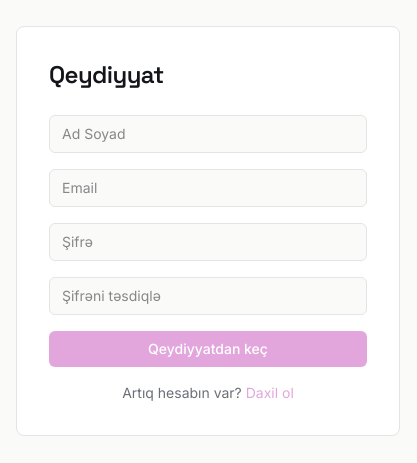
Register › shows an error when passwords do not match
In the field with placeholder "Ad Soyad": (208,134) [49,115,367,153], type "Test User"
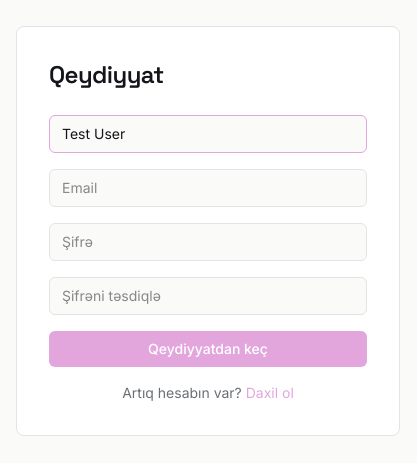
In the field with placeholder "Email": (208,188) [49,169,367,207], type "test@example.com"
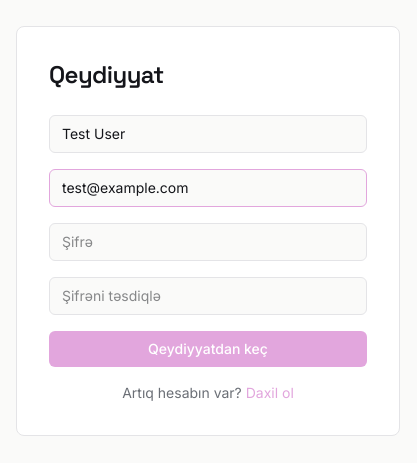
In the password field with placeholder "Şifrə": (208,242) [49,223,367,261], type "password123"
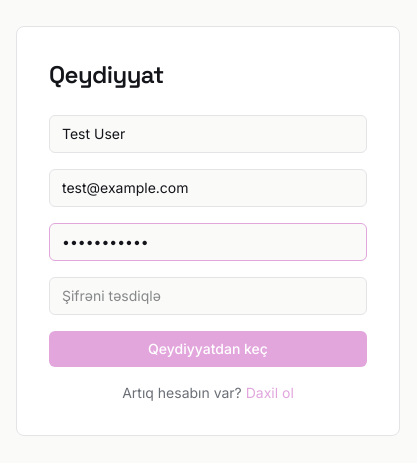
In the password field with placeholder "Şifrəni təsdiqlə": (208,296) [49,277,367,315], type "different123"
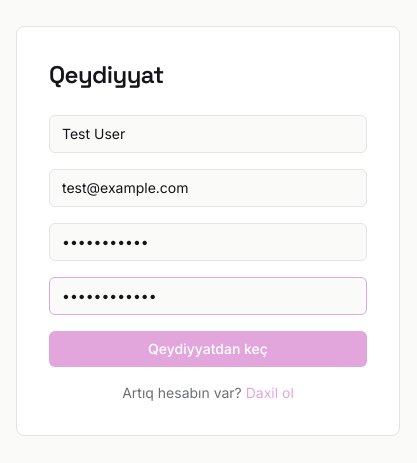
Click the button "Qeydiyyatdan keç": (208,349) [49,331,367,367]
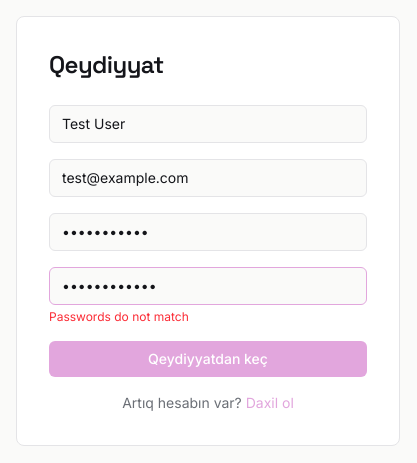
Expected: the text "Passwords do not match" is shown, [49,309,189,324]
